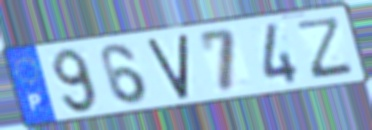4: (261, 19, 300, 87)
6: (99, 41, 151, 108)
7: (197, 25, 243, 96)
9: (48, 47, 100, 116)
V: (144, 31, 191, 103)
Z: (297, 14, 356, 82)
